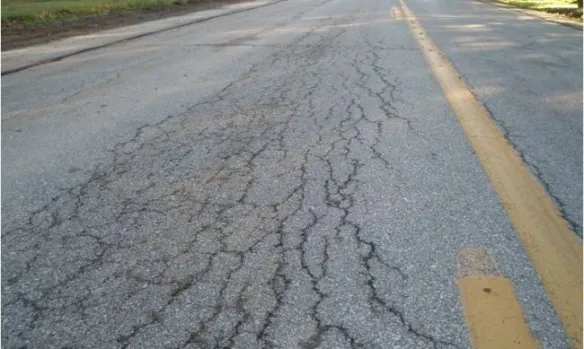Retak Buaya: (23, 193, 444, 349), (66, 169, 407, 318), (102, 134, 399, 275), (144, 105, 368, 214), (191, 75, 401, 186), (457, 64, 584, 244), (262, 37, 417, 134), (1, 214, 33, 349), (178, 38, 313, 53), (239, 60, 270, 88)
